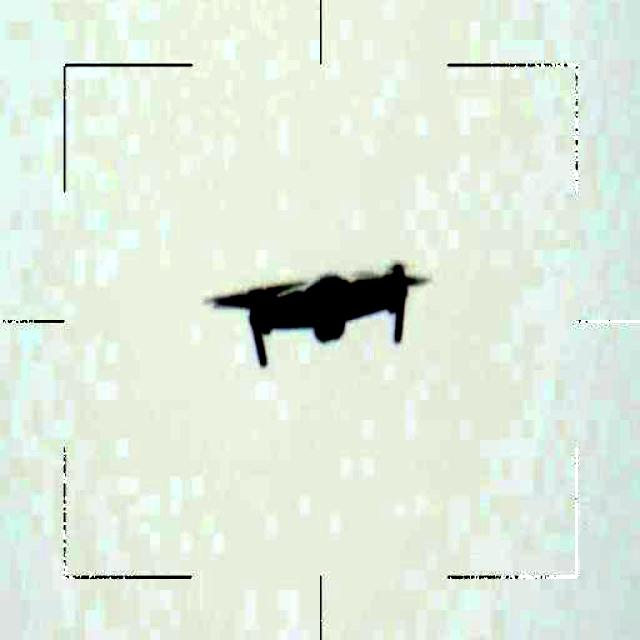bird: (211, 246, 452, 372)
